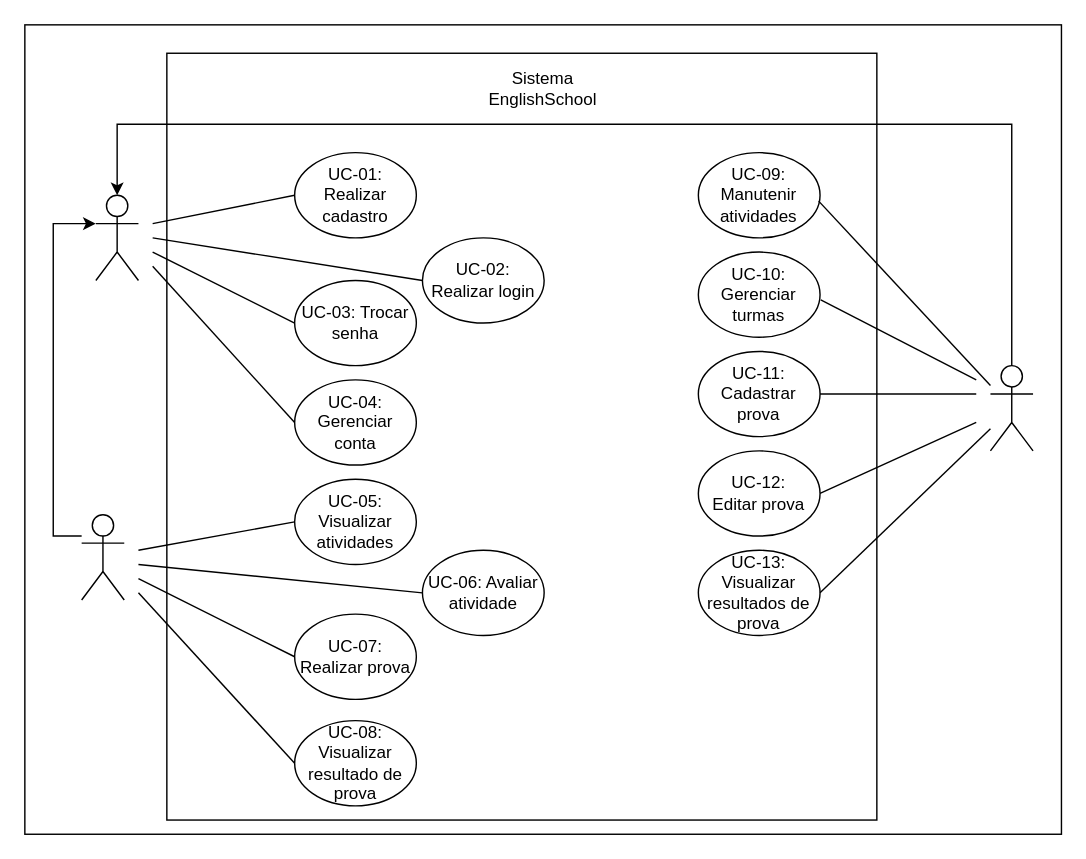
This 1086x859 diagram has some shape labels left out. Here are the shapes that lost their labels. From the top down, the centre of each, then its label:
the point at 116,237: Usuário
the point at 1011,407: Professor
the point at 102,556: Aluno
